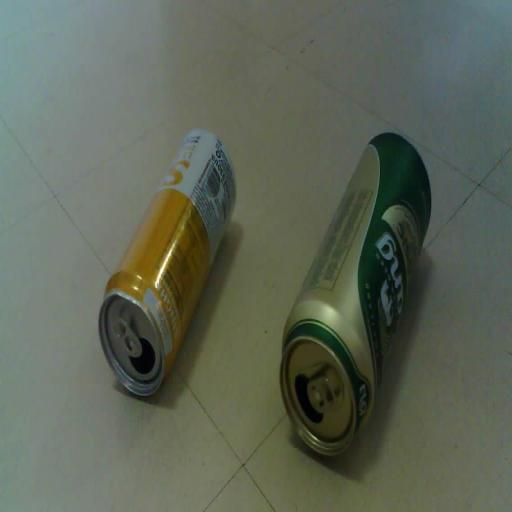canned: (273, 119, 434, 466), (89, 116, 242, 402)
